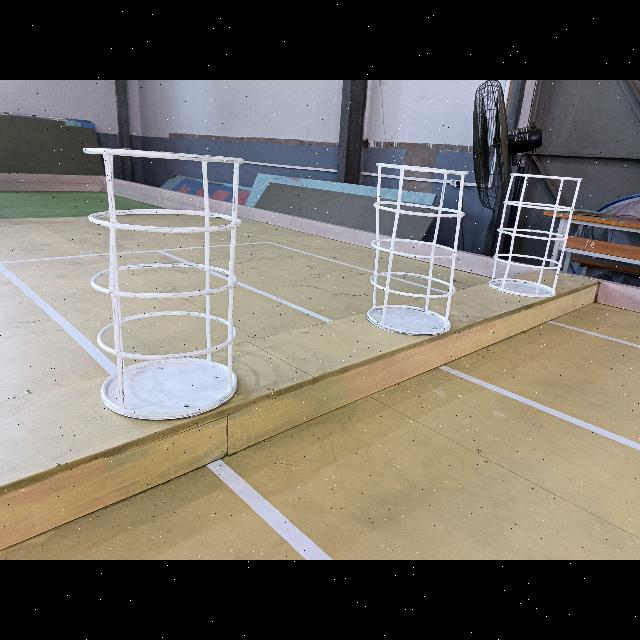S: (83, 148, 245, 421), (366, 159, 473, 336), (488, 168, 587, 300)
